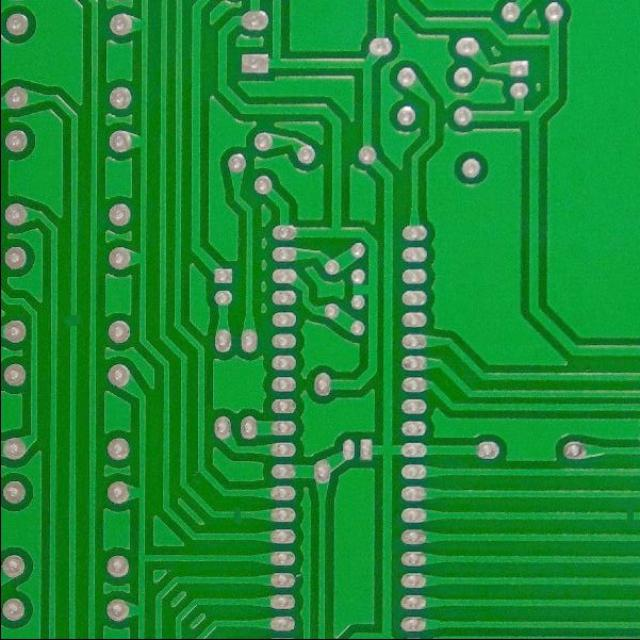open_circuit: (64, 310, 82, 331), (228, 504, 243, 527), (619, 508, 637, 526)
